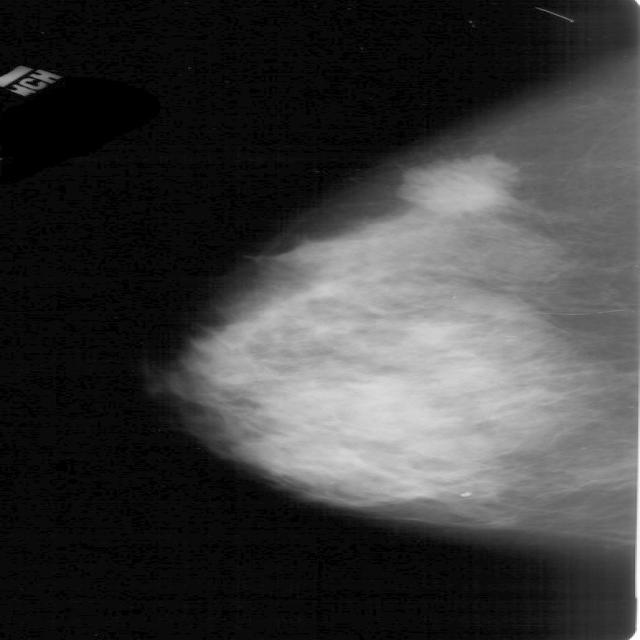tumour: (401, 156, 510, 212)
